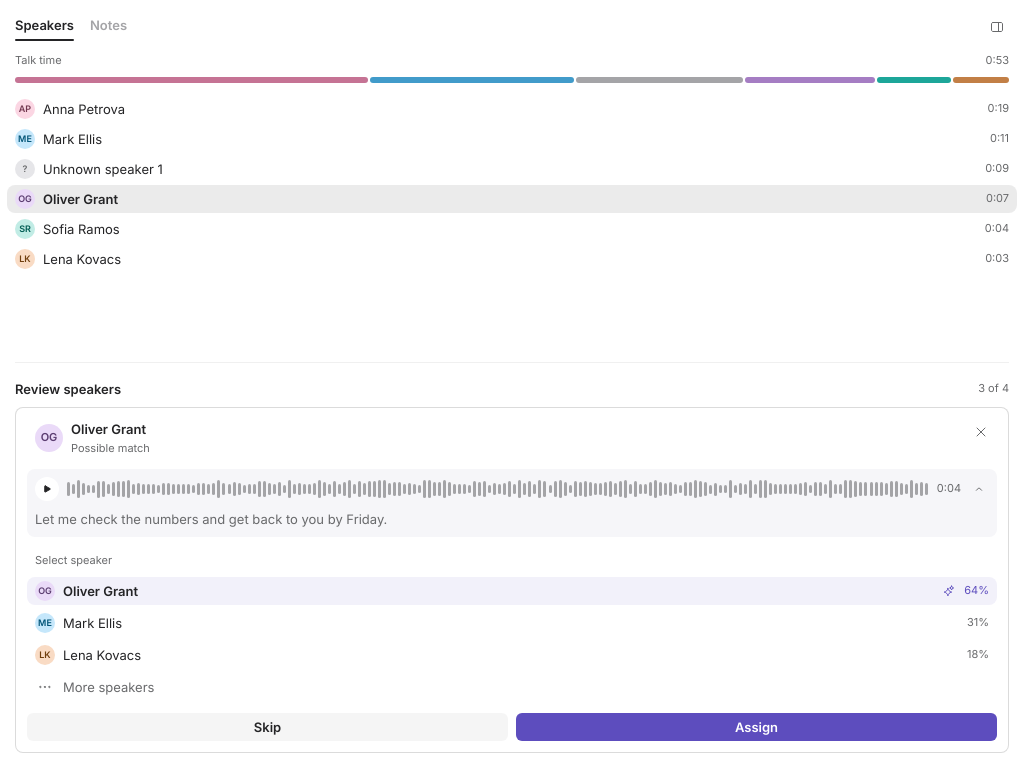
review › Undo of a confirmation brings the possible match back
Step 1. Click the button "Assign" → point(756, 727), box [516, 713, 997, 741]
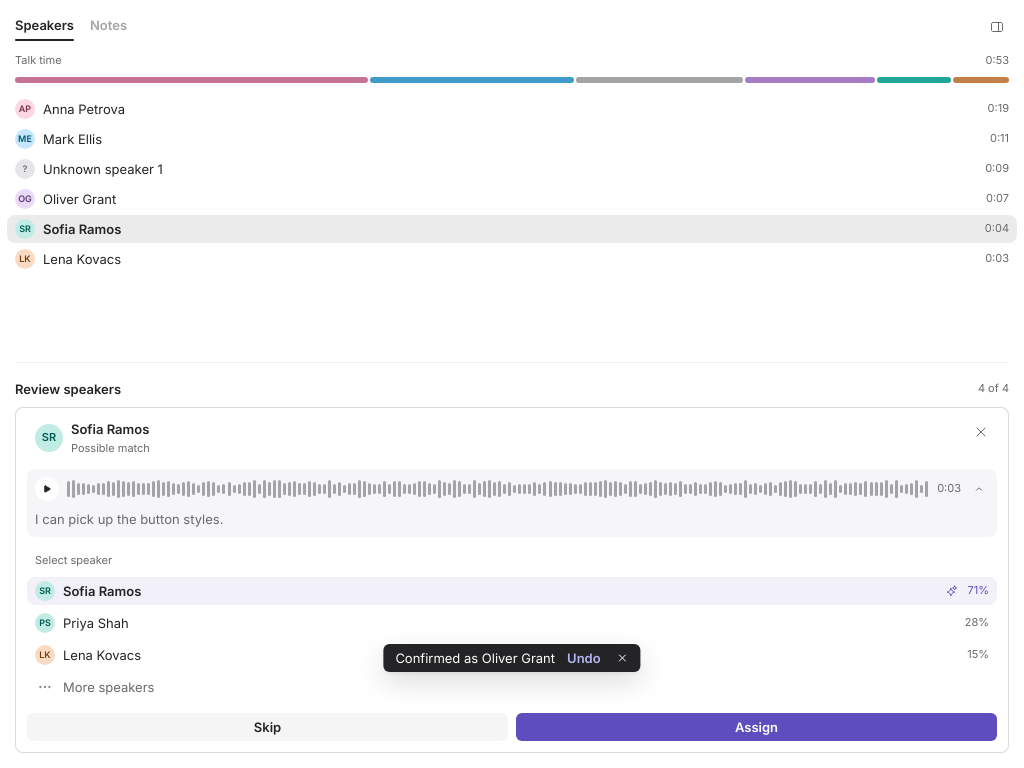
Step 2. Click the button "Undo" → point(584, 658), box [563, 648, 605, 668]
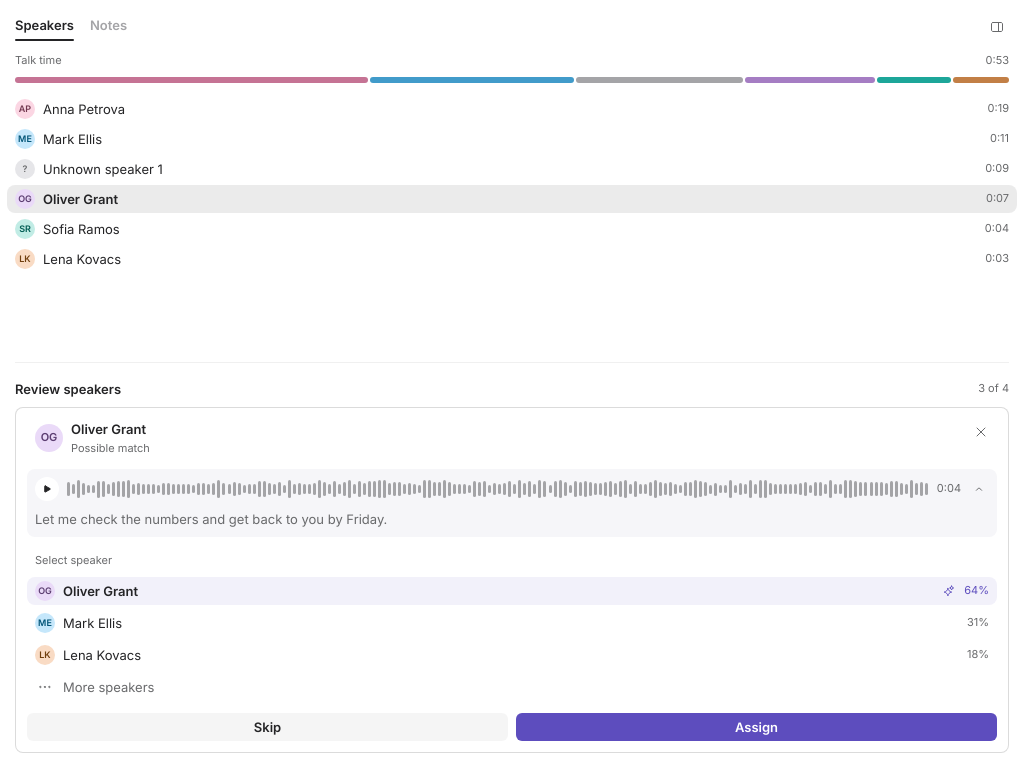
Result: the text "3 of 4" is shown at [978, 381, 1009, 397]
